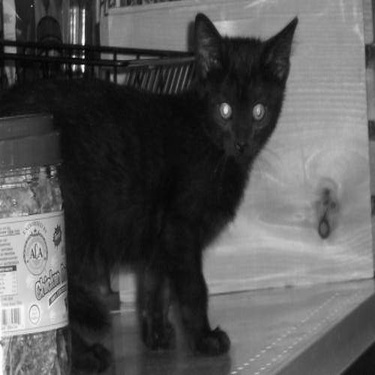cat: (19, 7, 310, 357)
